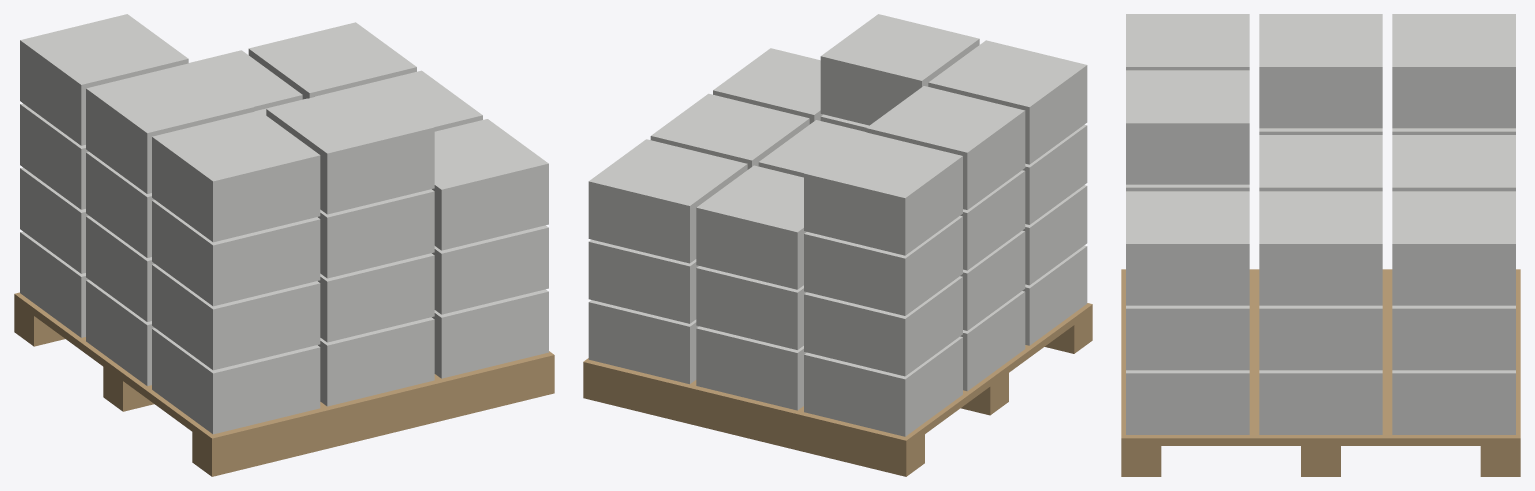
The model's file is pallet_mp_31.glb.
3 views of the same model, side by side, from view 1: azimuth 30°, elevation 25°; view 2: azimuth 150°, elevation 25°; view 3: azimuth 270°, elevation 25° (orthographic). The views are drawn at different scales.
Parts seen in each view (by area): view 1: PalletMP; view 2: PalletMP; view 3: PalletMP.
Part boxes in pixels (x1=…): PalletMP: x1=14, y1=14, x2=554, y2=476; PalletMP: x1=583, y1=14, x2=1092, y2=476; PalletMP: x1=1121, y1=14, x2=1520, y2=476.
Bounding box in the file's own units: 1 × 0.8171 × 1.
